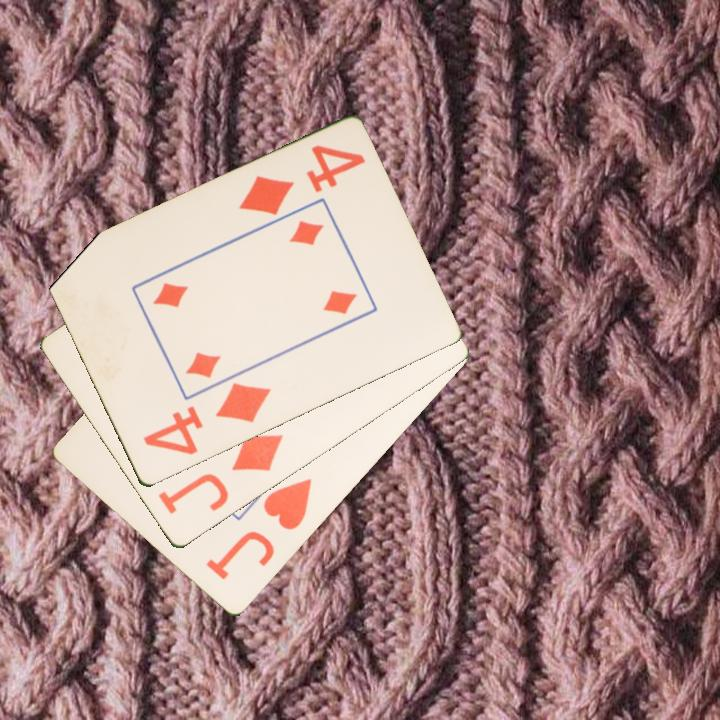4d: (139, 379, 274, 459), (235, 141, 368, 219)
Jd: (154, 431, 286, 518)
Jh: (202, 475, 315, 584)
